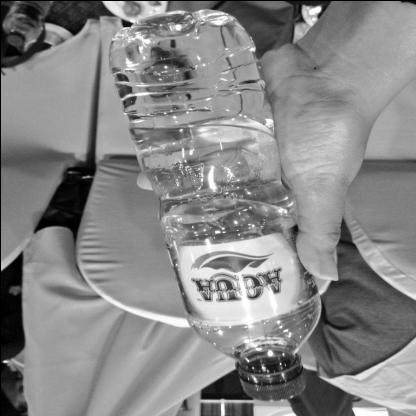plastic_bottles: (109, 11, 322, 400)
